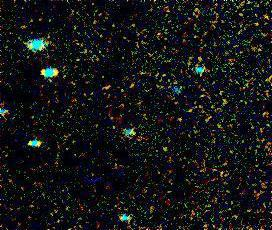star: (74, 164, 104, 194)
